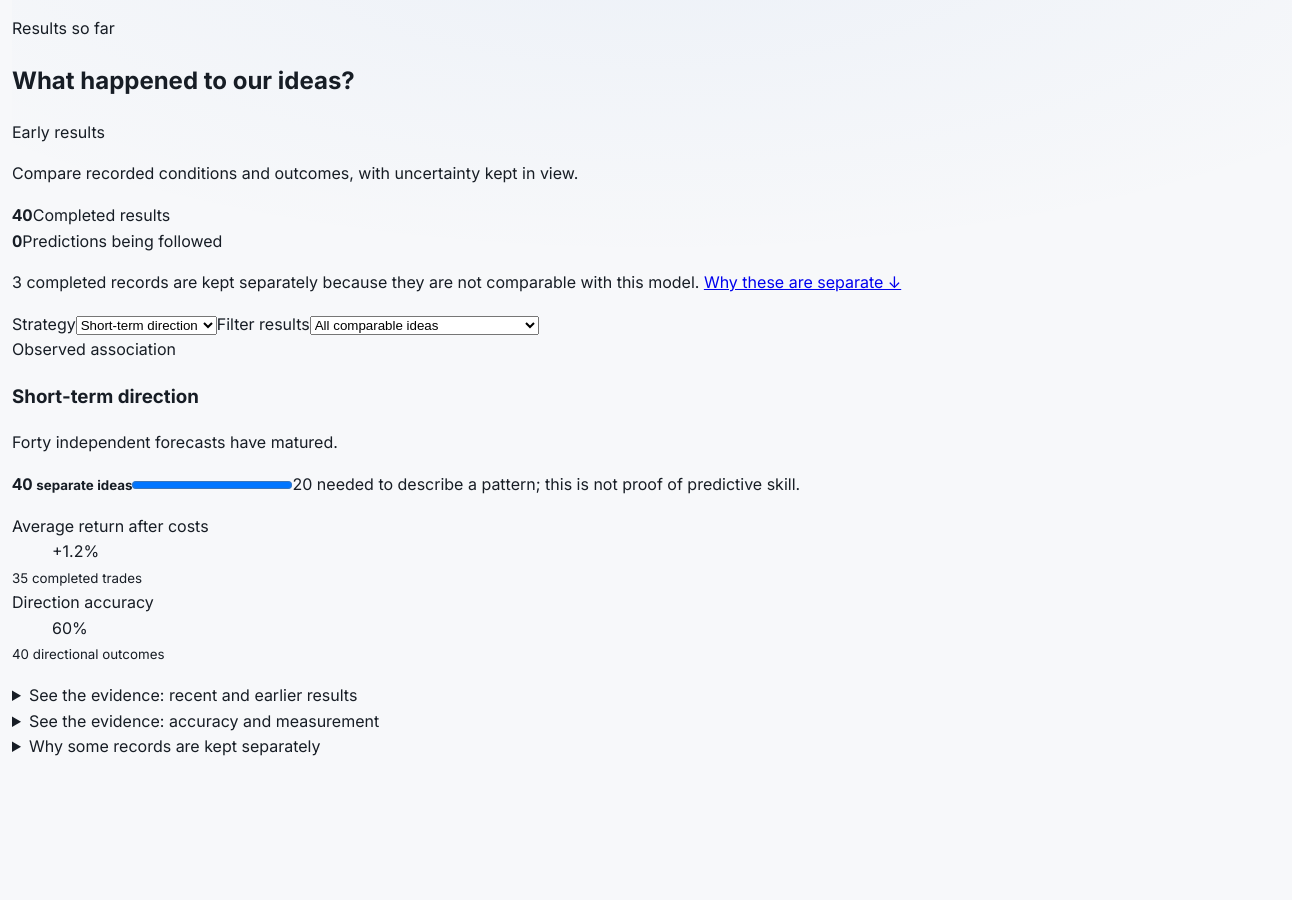
Test: Historical learning › filters the measured sample by recorded condition and resets it on strategy change
Check: the element named "Selected campaign results" shows "+1.2%", box [52,541,99,561]
Check: the element named "Selected campaign results" shows "40 directional outcomes", box [12,646,164,662]
Select "International markets: risk-off · n=8" in the dropdown labelled "Filter results". click: (424, 325)
box: [310,316,539,335]
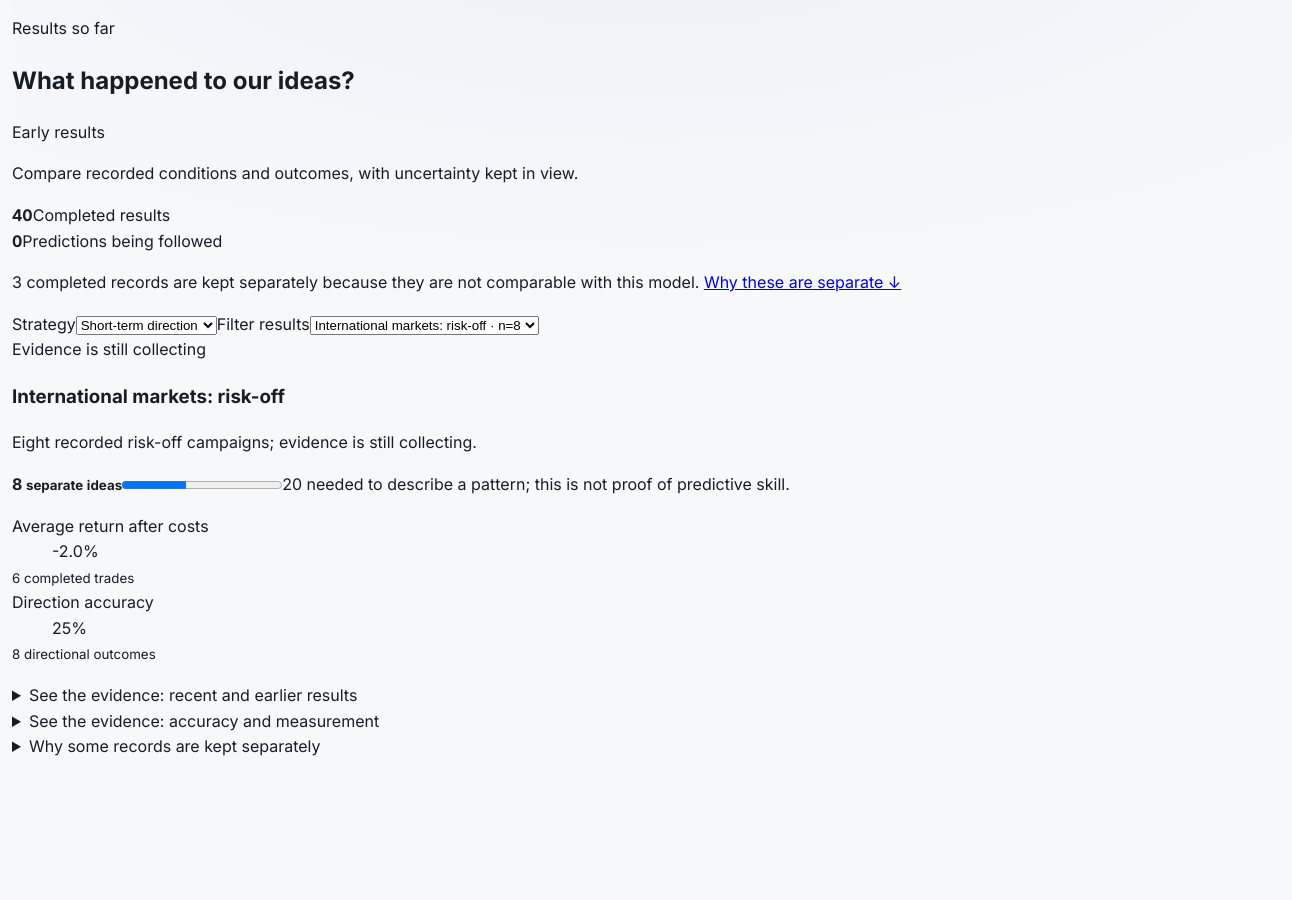
Check: the element named "Selected campaign results" shows "-2.0%", box [52,541,99,561]
Check: the element named "Selected campaign results" shows "8 directional outcomes", box [12,646,156,662]
Check: the text "Eight recorded risk-off campaigns" is shown, box [12,432,477,452]
Select "Recovery after a fall" in the dropdown labelled "Strategy". click: (146, 325)
box: [76,316,217,335]
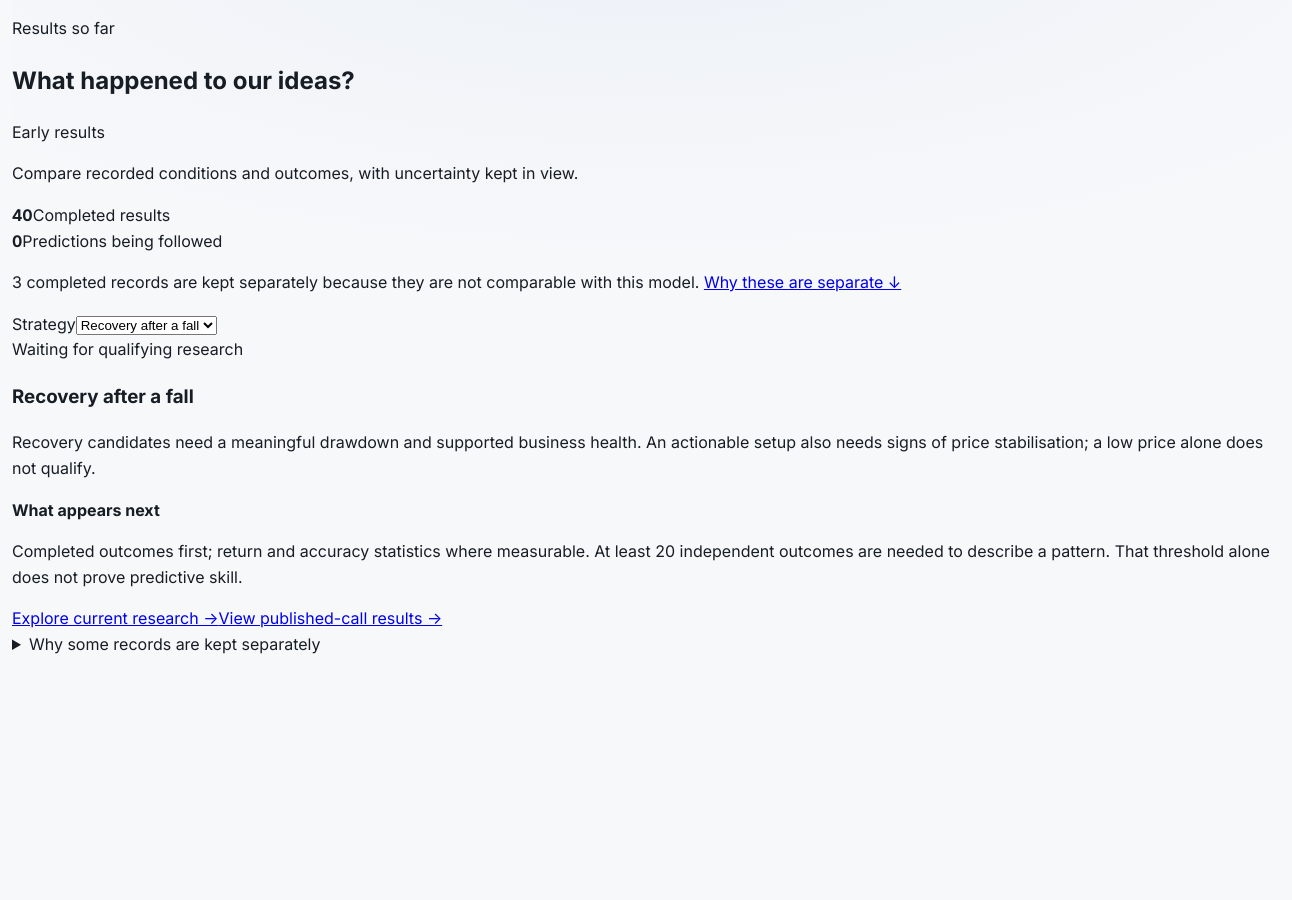
Check: the label labelled "Filter results" is gone
Check: the element named "Research awaiting outcomes" shows "a low price alone does not qualify", box [12,432,1263,478]
